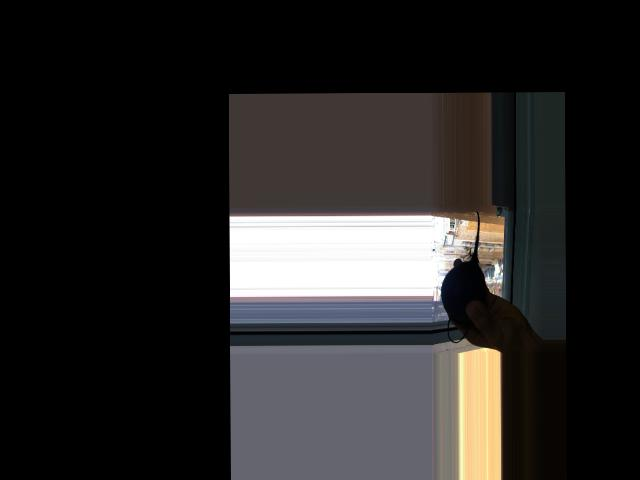beet: (440, 210, 486, 342)
